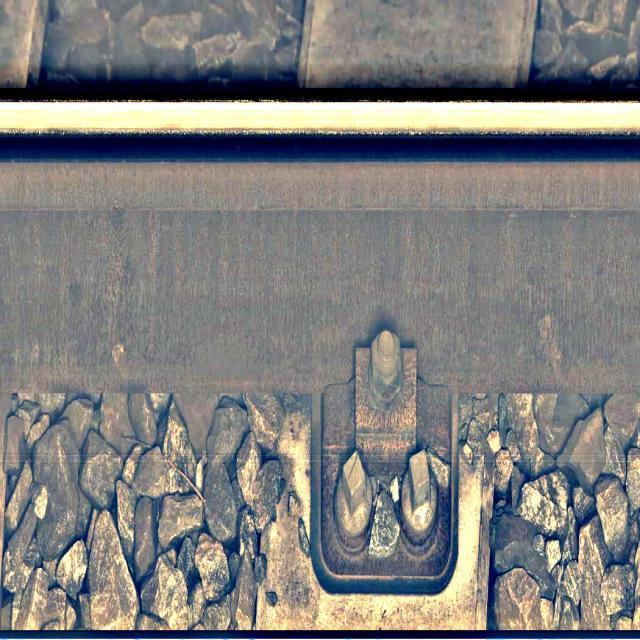Good Fasteners: (320, 330, 451, 592)
